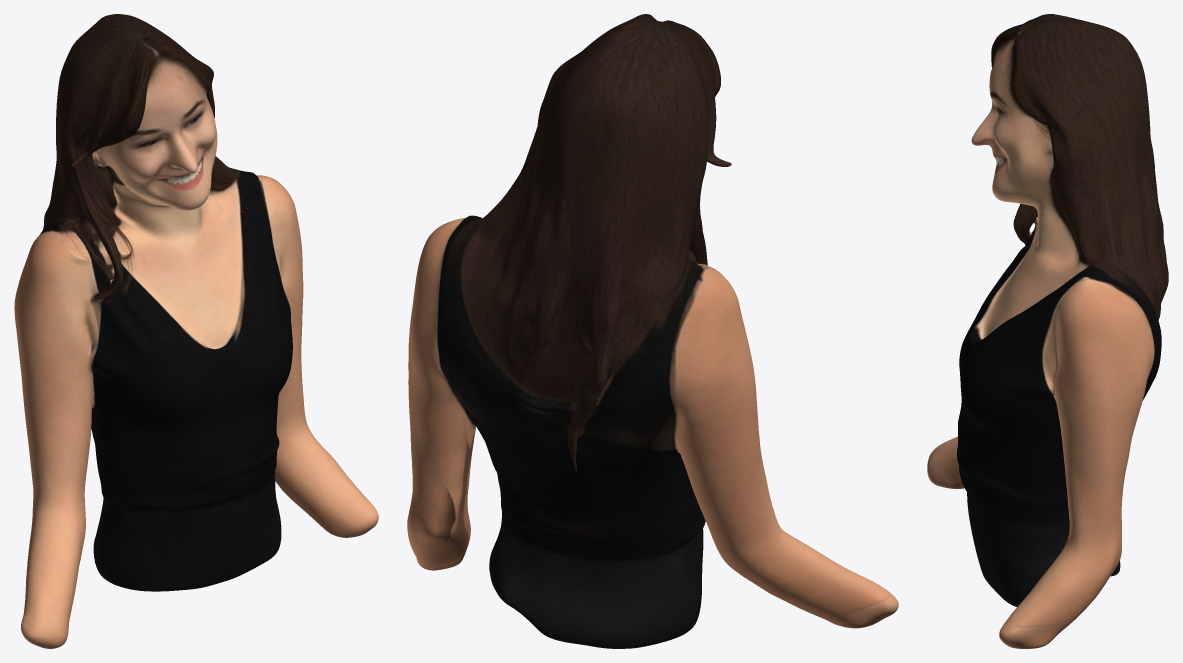
File: zelda_williams.glb
3 renders of one model, left to right at view 1: azimuth 30°, elevation 25°; view 2: azimuth 150°, elevation 25°; view 3: azimuth 270°, elevation 25°, orthographic. The views are drawn at different scales.
Bounding box in the file's own units: 1.42 × 1.9 × 0.7813.
1 material, 1 textured.
